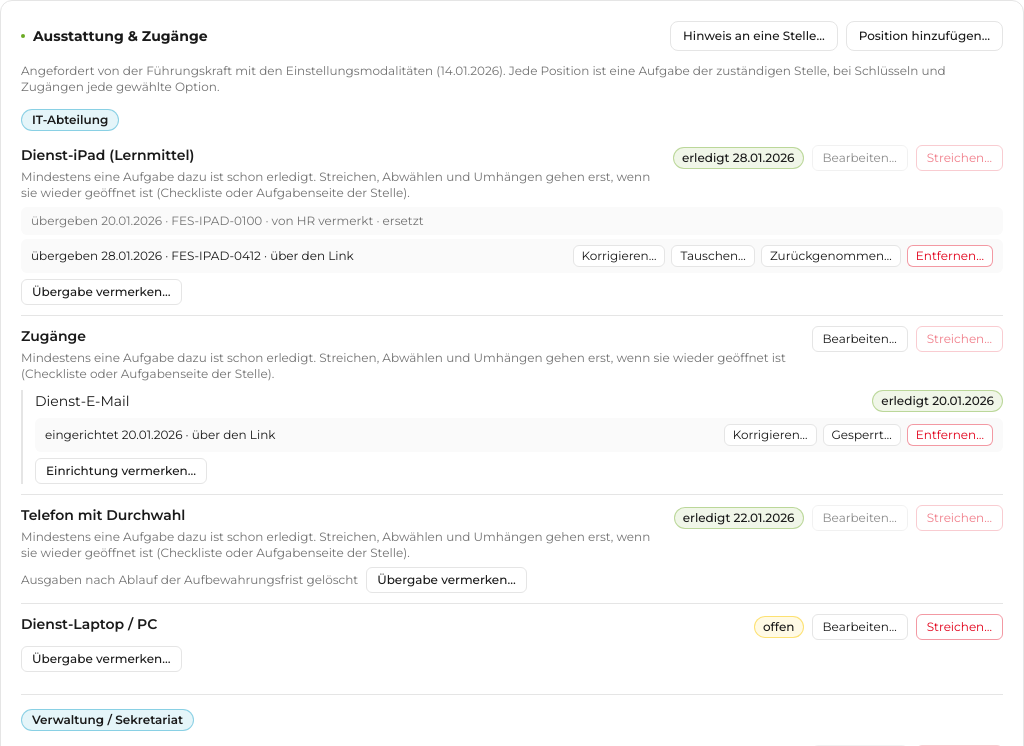
Scenario: Dialoge › Vermerken: ein Stück weglassen, ein Datum in der Zukunft sperrt mit Grund
The width and height of the screenshot is (1024, 746).
Click the button "Übergabe vermerken…" below "Dienst-Laptop / PC" at (101, 659), box [21,646,182,672]
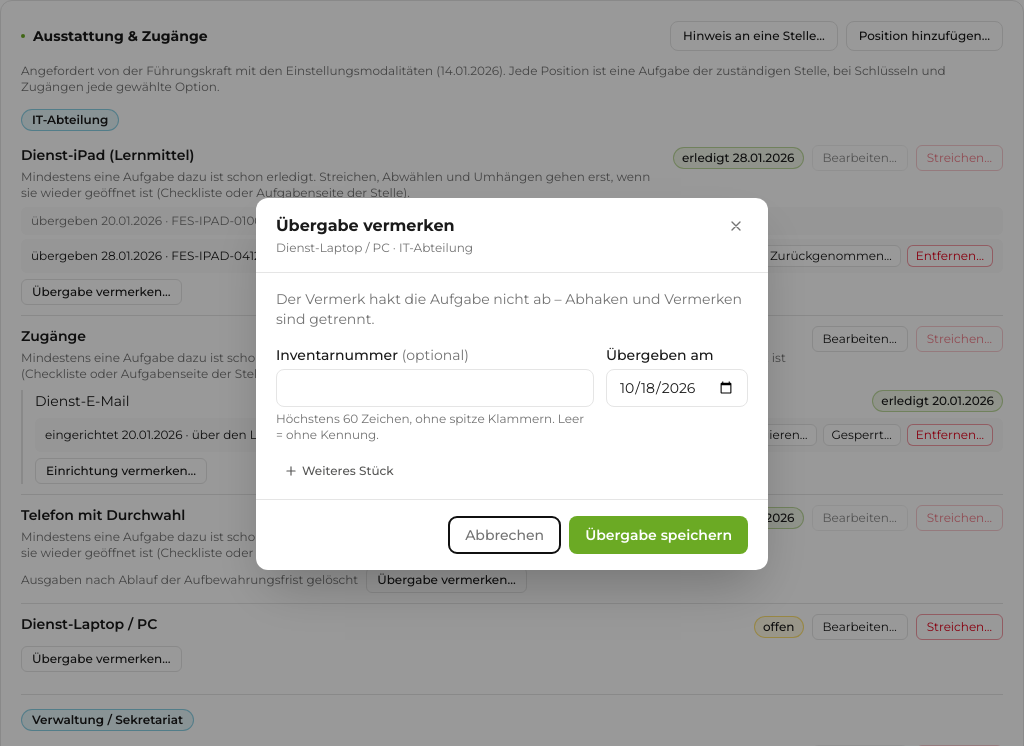
Click the button "Weiteres Stück" at (339, 471), box [276,459,402,483]
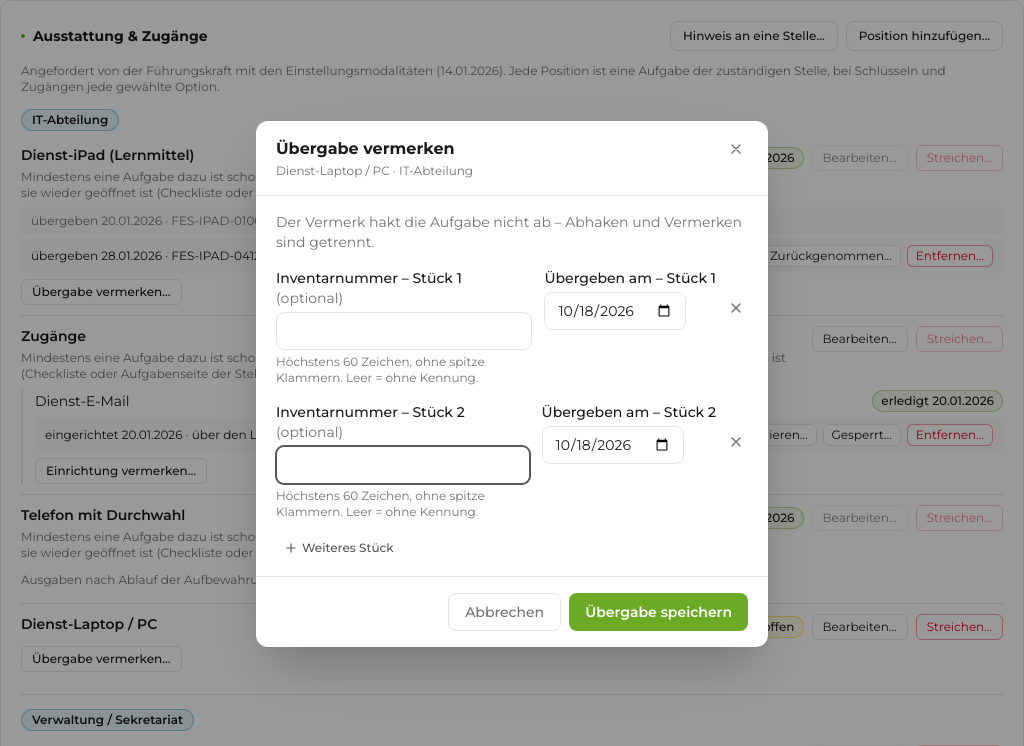
Click the button named "Stück 2 weglassen" at (736, 442), box [724,430,748,454]
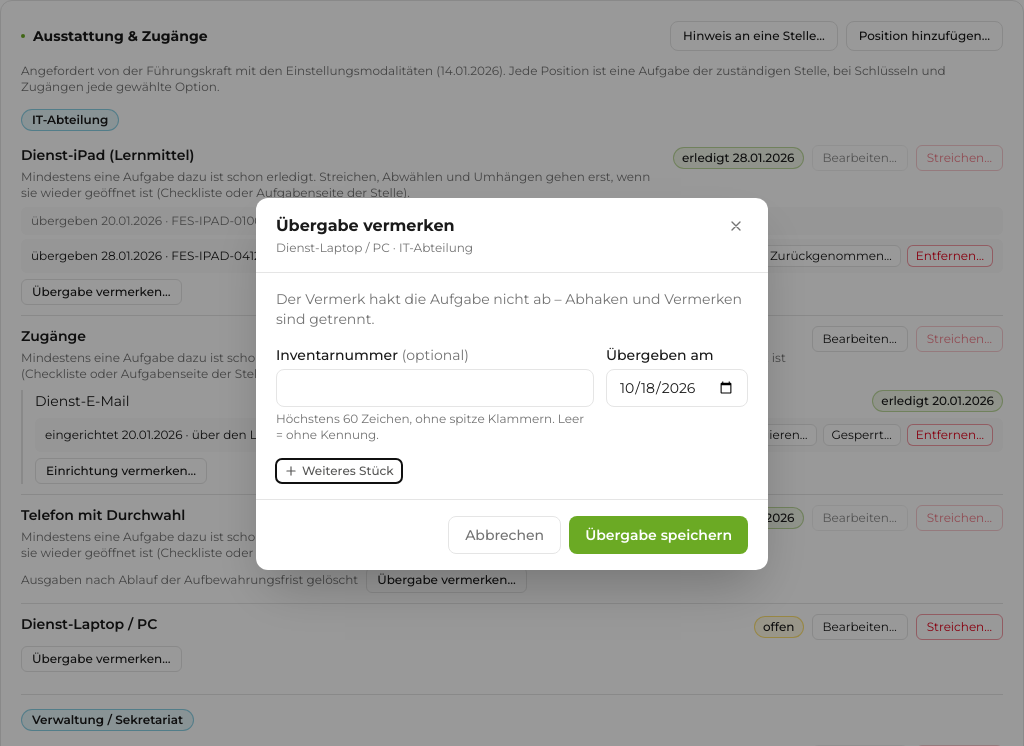
expect the button "Weiteres Stück" is shown: met, box [276,459,402,483]
expect the number of fields labelled "Inventarnummer (optional)" is 1: met, box [276,369,594,407]
Type "2026-10-19" into the date field labelled "Übergeben am" at (677, 388), box [606,369,748,407]
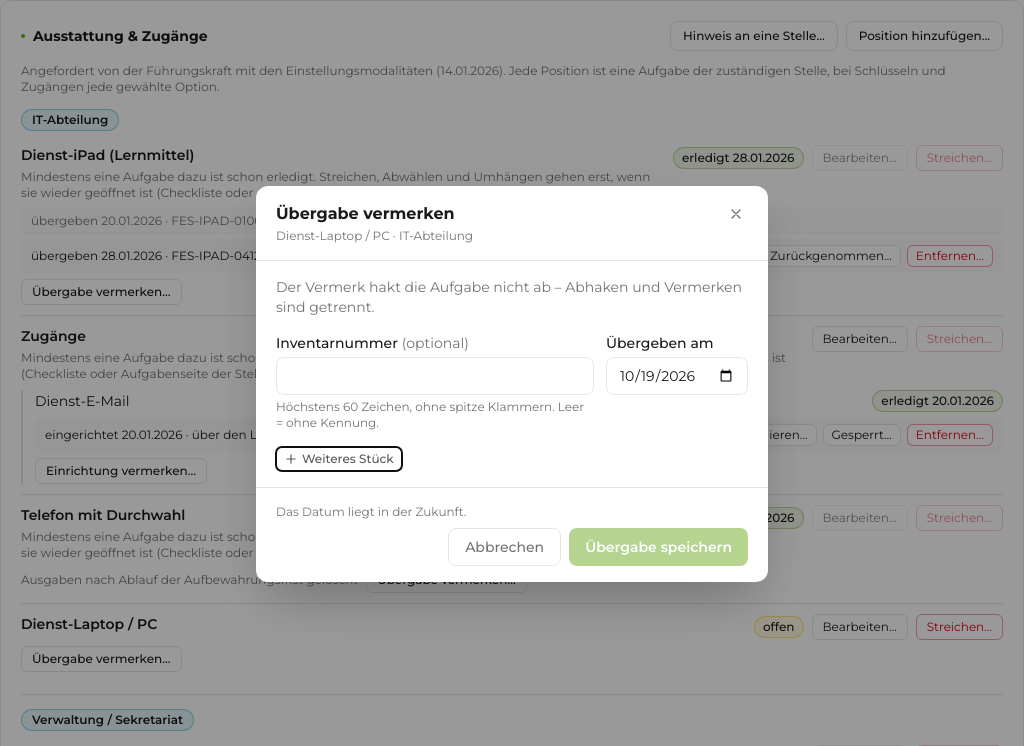
expect the button "Übergabe speichern" is disabled: met, box [569,528,748,566]
expect the text "Das Datum liegt in der Zukunft." is shown: met, box [276,504,466,519]
